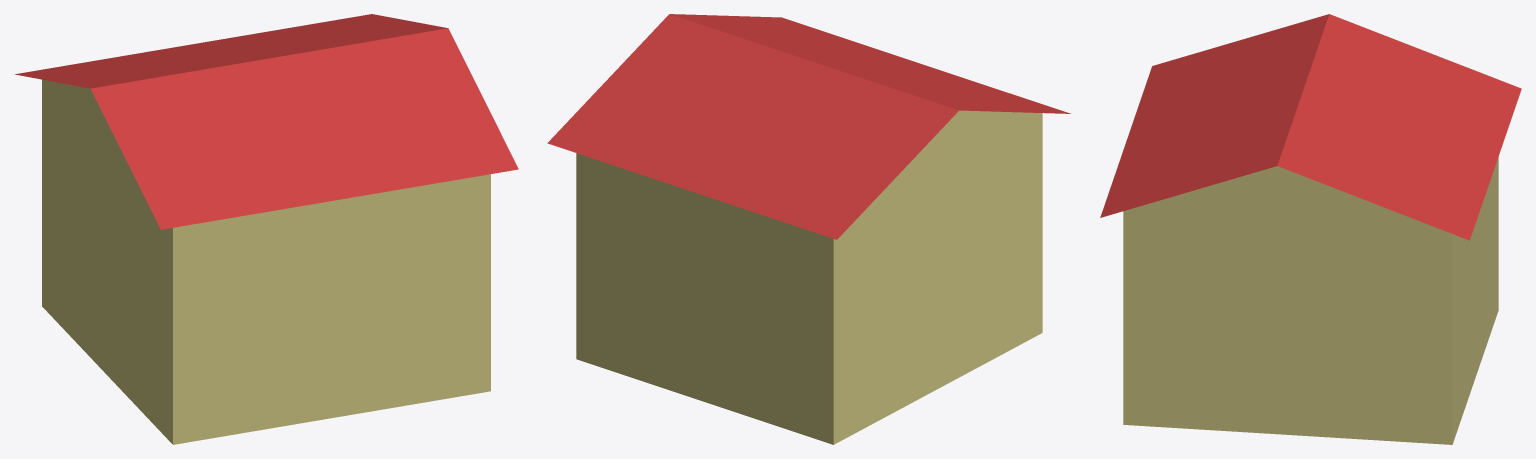
3 renders of one model, left to right at view 1: azimuth 30°, elevation 25°; view 2: azimuth 150°, elevation 25°; view 3: azimuth 270°, elevation 25°, orthographic. The views are drawn at different scales.
Visible parts, largest first — view 1: group_5, group_3, group_4; view 2: group_5, group_3, group_4; view 3: group_5, group_3, group_4.
Part boxes in pixels (x1,y1,x2,y2): group_5: (42, 77, 490, 444); group_3: (42, 19, 490, 210); group_4: (15, 14, 518, 229); group_5: (576, 110, 1042, 444); group_3: (576, 14, 1042, 220); group_4: (547, 14, 1070, 239); group_5: (1123, 157, 1498, 444); group_3: (1123, 14, 1498, 224); group_4: (1100, 14, 1521, 240).
Bounding box in the file's own units: 15.22 × 15.53 × 11.26.
